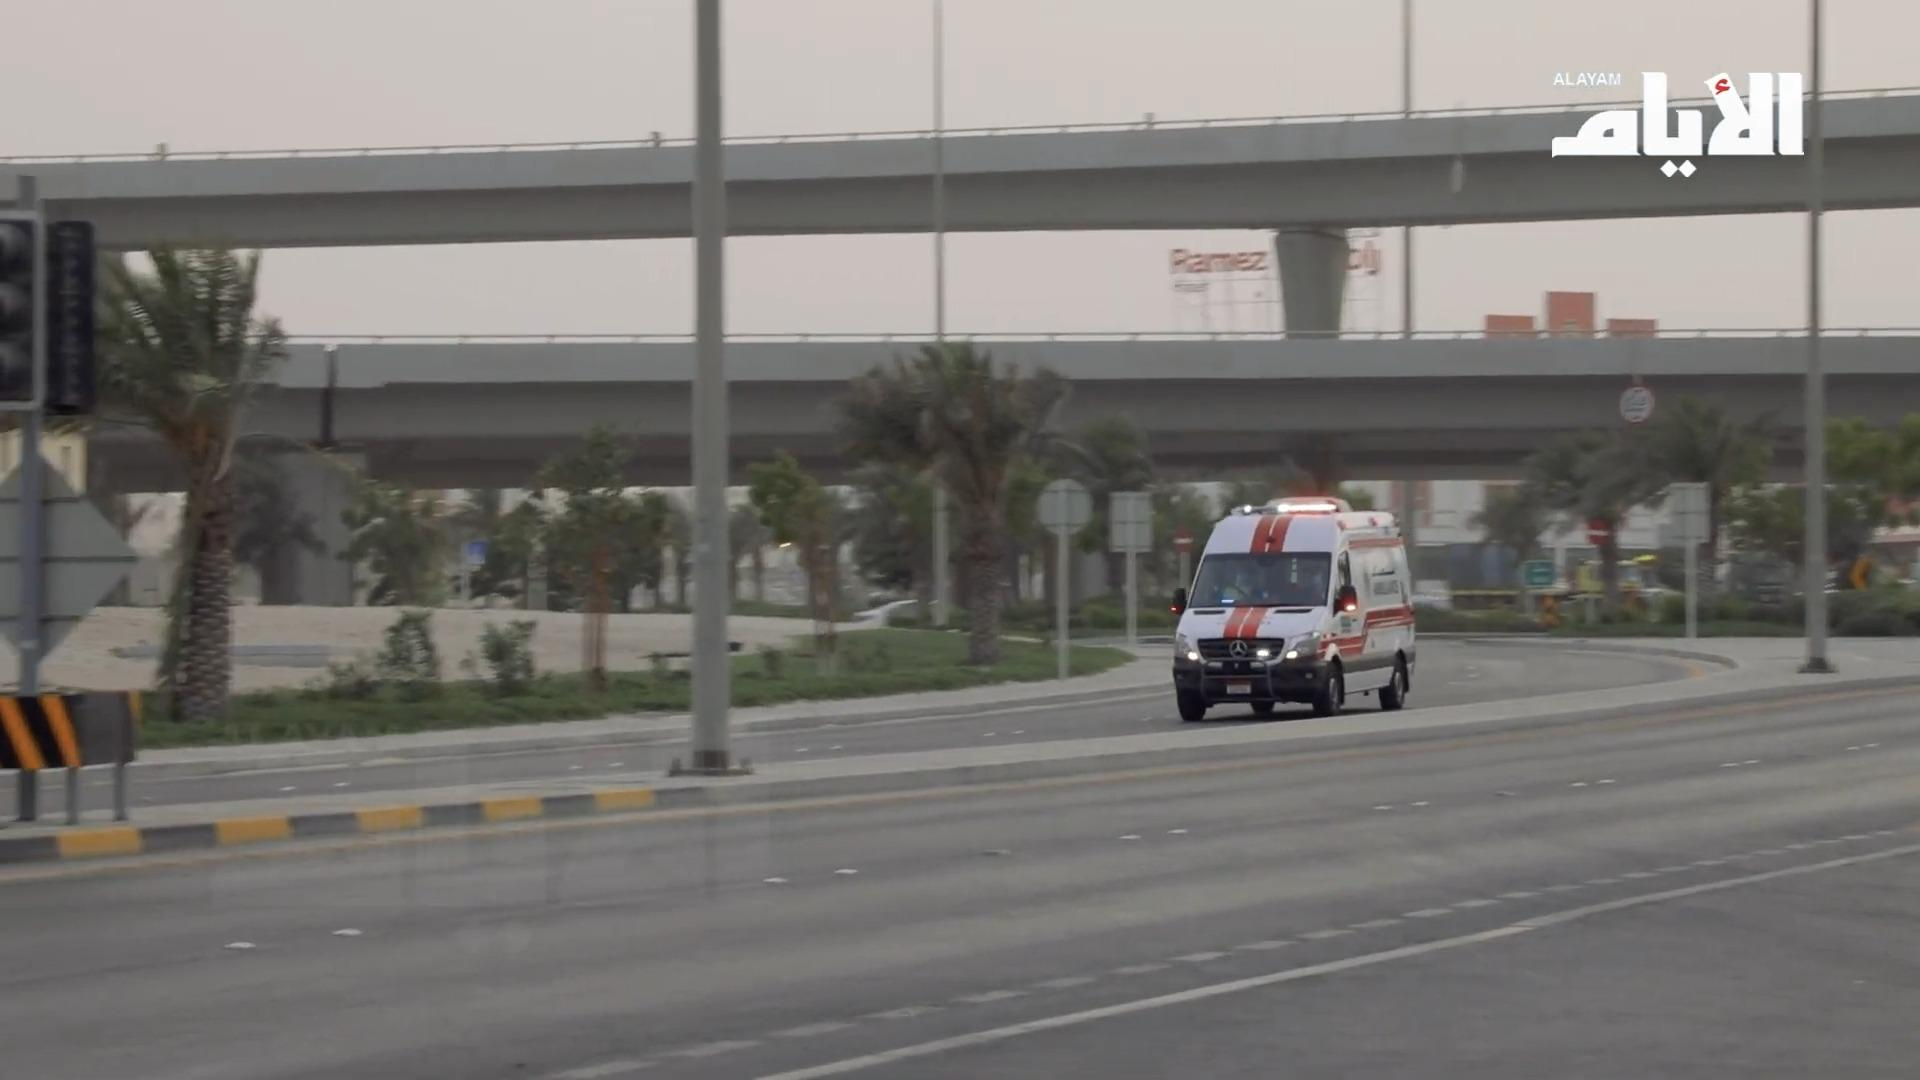ambulance_on: (1172, 495, 1415, 723)
